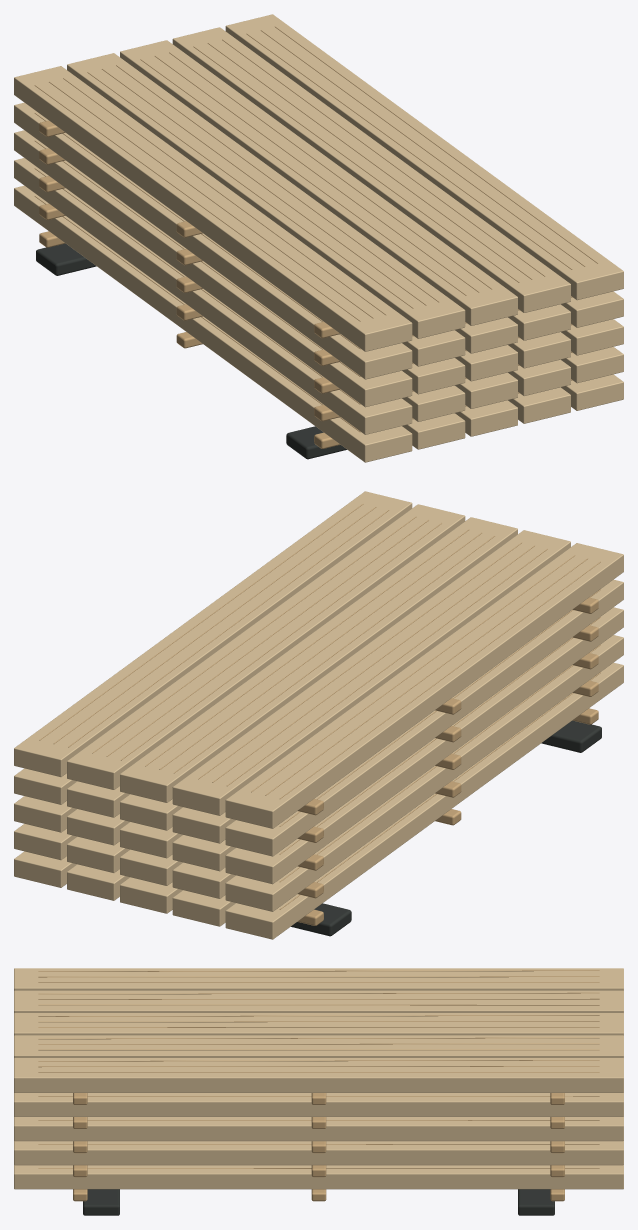
The model's file is sawmill-and-timber-yard-sticker-timber-stack-c73384d6__31191.glb.
3 views of the same model, one above another, from view 1: azimuth 30°, elevation 25°; view 2: azimuth 150°, elevation 25°; view 3: azimuth 270°, elevation 25° (orthographic). The views are drawn at different scales.
Parts seen in each view (by area): view 1: sticker-timber-stack; view 2: sticker-timber-stack; view 3: sticker-timber-stack.
Boxes of the visible parts, <box> form: sticker-timber-stack: <box>14,14,623,462</box>; sticker-timber-stack: <box>14,491,623,939</box>; sticker-timber-stack: <box>14,968,623,1215</box>.
Size of the model in its own units: 1.12 by 0.5472 by 2.3.
